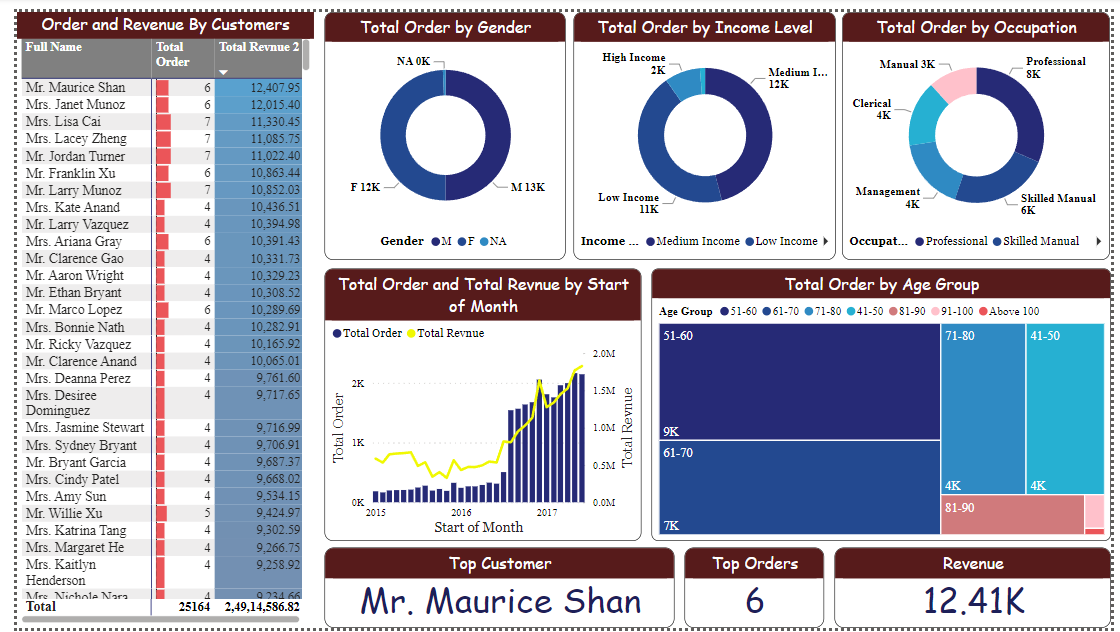

This screenshot's page, from the dashboard's own definition file:
{"tool":"powerbi","page":{"name":"Customer Detail","canvas":[1280,720],"ordinal":2},"visuals":[{"type":"pivotTable","title":"Order and Revenue By Customers","fields":{"Values":["Sales_Fact.Total Order","Sales_Fact.Total Revnue 2"],"Rows":["Customers_Dim.Full Name"]},"box":[0,0,347.5,719.7],"z":0},{"type":"donutChart","fields":{"Y":["Sales_Fact.Total Order"],"Category":["Customers_Dim.Income Level"]},"box":[650.8,0,306.6,290.2],"z":1000},{"type":"donutChart","fields":{"Y":["Sales_Fact.Total Order"],"Category":["Customers_Dim.Occupation"]},"box":[965.6,0,313.1,290.2],"z":2000},{"type":"donutChart","fields":{"Y":["Sales_Fact.Total Order"],"Category":["Customers_Dim.Gender"]},"box":[359,0,282,290.2],"z":3000},{"type":"lineStackedColumnComboChart","fields":{"Category":["Calendar_Dim.Start of Month"],"Y":["Sales_Fact.Total Order"],"Y2":["Sales_Fact.Total Revnue"]},"box":[359.2,299.3,370.5,318.7],"z":4000},{"type":"treemap","fields":{"Values":["Sales_Fact.Total Order"],"Group":["Customers_Dim.Age Group"]},"box":[742.7,299.3,537.2,318.7],"z":5000},{"type":"card","title":"Top Customer","fields":{"Values":["Customers_Dim.Full Name"]},"box":[359.2,626.2,409.3,93.8],"z":6000},{"type":"card","title":"Top Orders","fields":{"Values":["Sales_Fact.Total Order"]},"box":[779.9,626.2,163.4,93.8],"z":7000},{"type":"card","title":"Revenue","fields":{"Values":["Sales_Fact.Total Revnue 2"]},"box":[956.2,626.2,323.6,93.8],"z":8000}]}

Visuals, with their boxes in screenshot pixels (x1, y1, x2, y2), scaled from the page's 1280x720 canvas onto the 1120x632 screenshot:
"Order and Revenue By Customers" pivotTable: {"left": 0, "top": 0, "right": 304, "bottom": 631}
donutChart - Sales_Fact.Total Order x Customers_Dim.Income Level: {"left": 569, "top": 0, "right": 838, "bottom": 255}
donutChart - Sales_Fact.Total Order x Customers_Dim.Occupation: {"left": 845, "top": 0, "right": 1119, "bottom": 255}
donutChart - Sales_Fact.Total Order x Customers_Dim.Gender: {"left": 314, "top": 0, "right": 561, "bottom": 255}
lineStackedColumnComboChart - Calendar_Dim.Start of Month x Sales_Fact.Total Order: {"left": 314, "top": 263, "right": 638, "bottom": 542}
treemap - Sales_Fact.Total Order x Customers_Dim.Age Group: {"left": 650, "top": 263, "right": 1119, "bottom": 542}
"Top Customer" card: {"left": 314, "top": 550, "right": 672, "bottom": 631}
"Top Orders" card: {"left": 682, "top": 550, "right": 825, "bottom": 631}
"Revenue" card: {"left": 837, "top": 550, "right": 1119, "bottom": 631}
